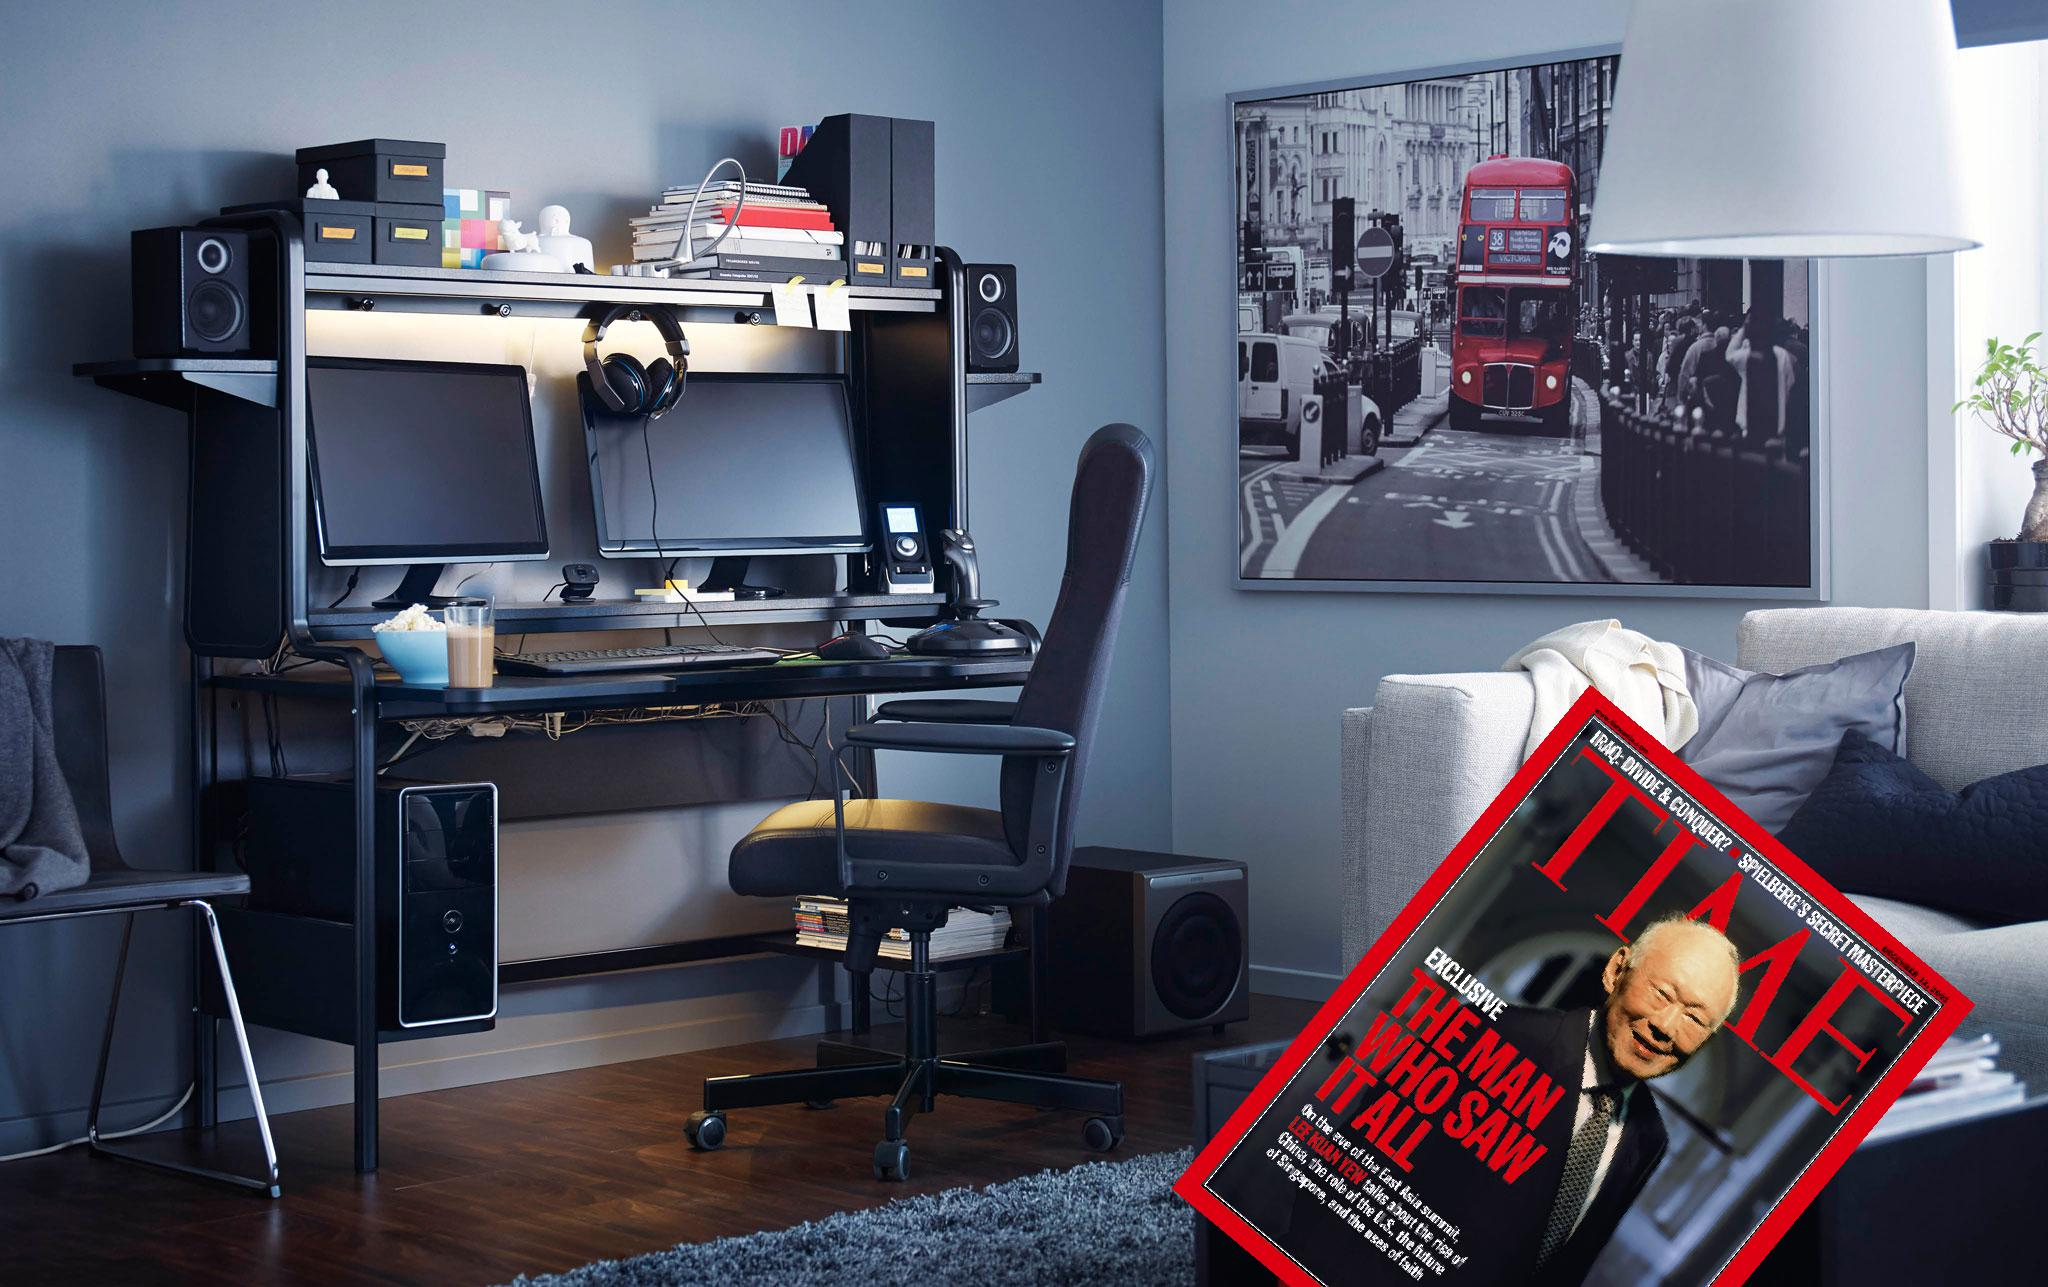times: (1154, 675, 1986, 1283)
